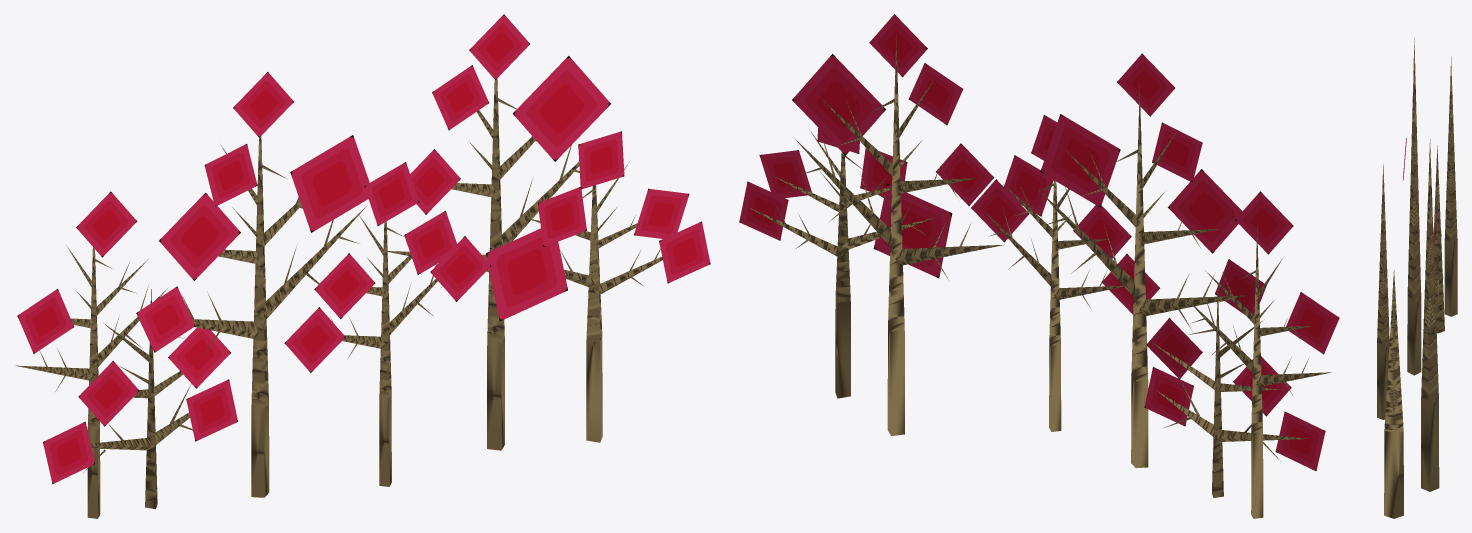
The model's file is Tree_Leaves_New_6.obj.
3 views of the same model, side by side, from view 1: azimuth 30°, elevation 25°; view 2: azimuth 150°, elevation 25°; view 3: azimuth 270°, elevation 25° (orthographic). The views are drawn at different scales.
Parts seen in each view (by area): view 1: polySurface2, polySurface3, pPlane227, pPlane217, polySurface4, pPlane230, polySurface1, polySurface5, pPlane231, pPlane238, pPlane52, pPlane221 (+19 smaller); view 2: polySurface3, polySurface2, polySurface4, pPlane227, polySurface5, polySurface1, pPlane230, pPlane231, pPlane217, pPlane241, pPlane229, pPlane228 (+17 smaller); view 3: polySurface3, polySurface4, polySurface2, polySurface5, polySurface1, pPyramid24.
Part boxes in pixels (x1,y1,x2,y2): polySurface2: (182, 136, 366, 497); polySurface3: (387, 79, 579, 450); pPlane227: (513, 56, 610, 161); pPlane217: (486, 228, 567, 321); polySurface4: (524, 161, 662, 442); pPlane230: (290, 135, 369, 232); polySurface1: (330, 214, 437, 486); polySurface5: (15, 245, 168, 518); pPlane231: (159, 192, 240, 280); pPlane238: (136, 286, 195, 352); pPlane52: (168, 327, 230, 388); pPlane221: (364, 162, 419, 225); polySurface3: (794, 35, 1004, 435); polySurface2: (1038, 84, 1246, 468); polySurface4: (746, 129, 935, 398); pPlane227: (792, 54, 885, 155); polySurface5: (1186, 225, 1331, 518); polySurface1: (984, 180, 1123, 431); pPlane230: (1040, 114, 1120, 207); pPlane231: (1168, 169, 1242, 253); pPlane217: (873, 183, 952, 278); pPlane241: (1235, 191, 1293, 254); pPlane229: (1117, 53, 1174, 116); pPlane228: (909, 63, 963, 125); polySurface3: (1421, 139, 1439, 491); polySurface4: (1384, 270, 1403, 518); polySurface2: (1407, 38, 1421, 375); polySurface5: (1444, 57, 1457, 316); polySurface1: (1377, 164, 1389, 419); pPyramid24: (1433, 146, 1444, 333).
Bounding box in the file's own units: 437 × 281 × 60.75.
2 materials, 2 textured.
